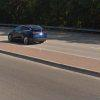Car: (4, 16, 55, 48)
